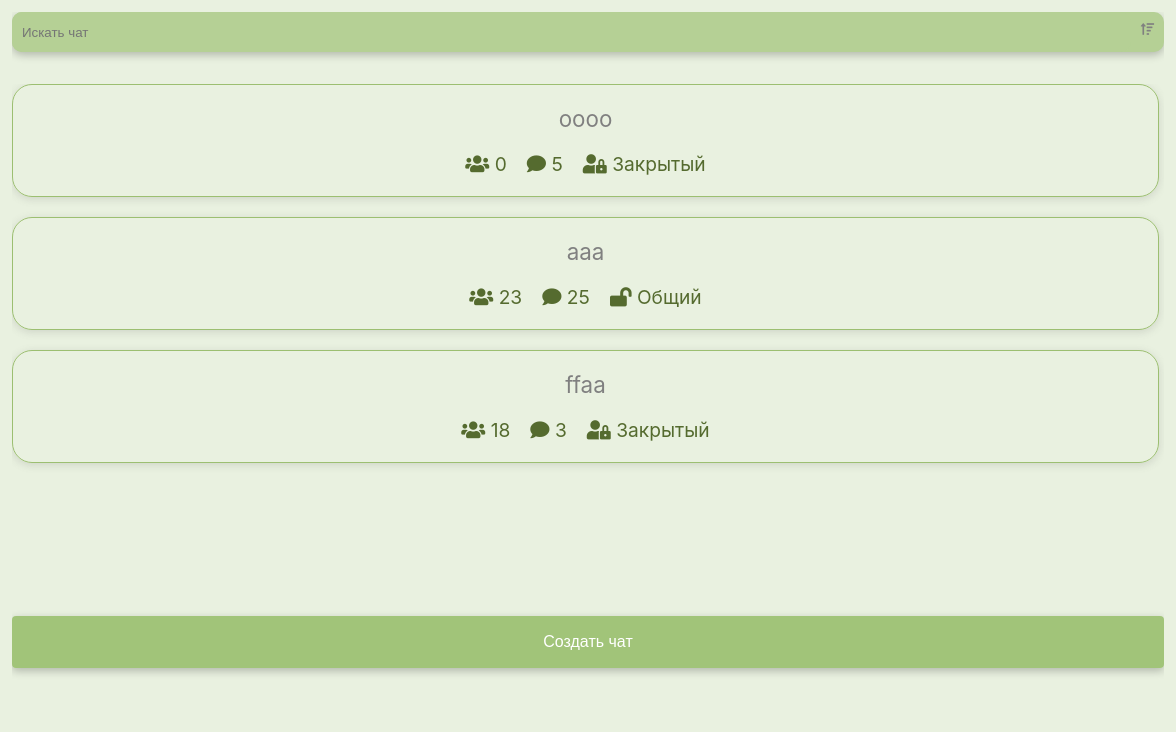
Test: HomeContainer › searches chat rooms based on input's value
The image size is (1176, 732).
Type "aa" into the field with placeholder "Искать чат".
click(571, 32); type("aa")  # box [12, 12, 1131, 52]
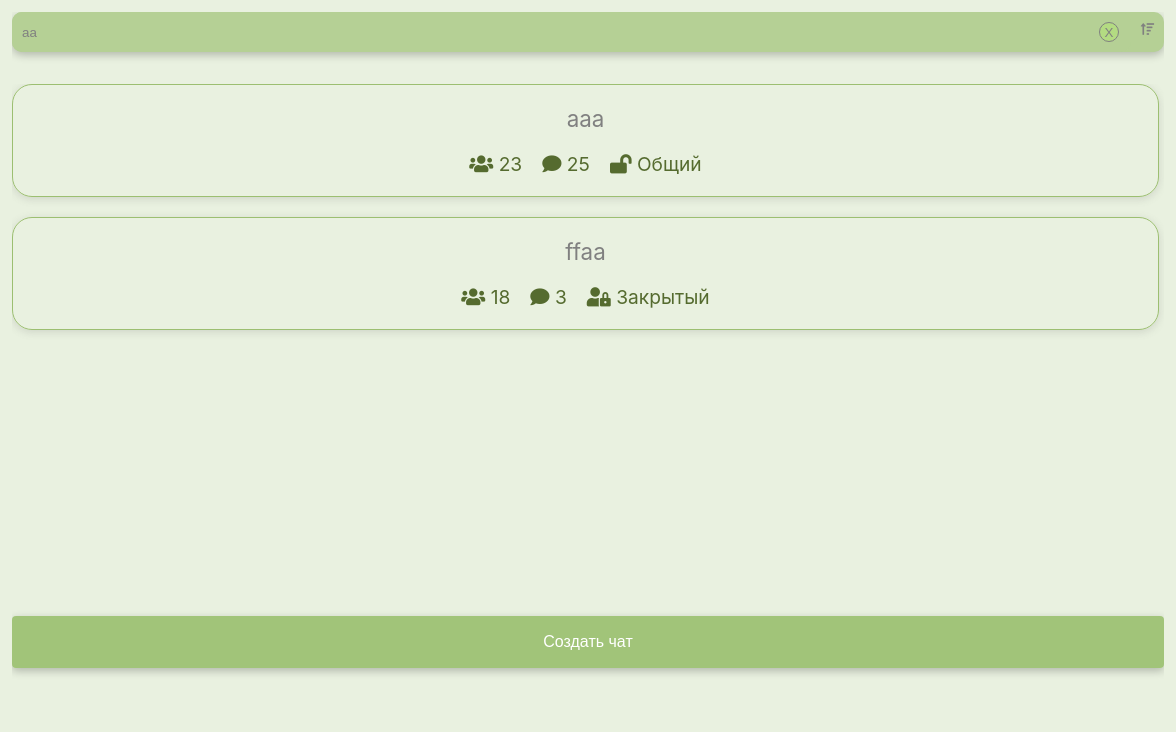
Result: the number of list items is 2 at [12, 84, 1159, 197]; [12, 217, 1159, 330]
Replace the text in the field with "fa" at (571, 32), box [12, 12, 1131, 52]
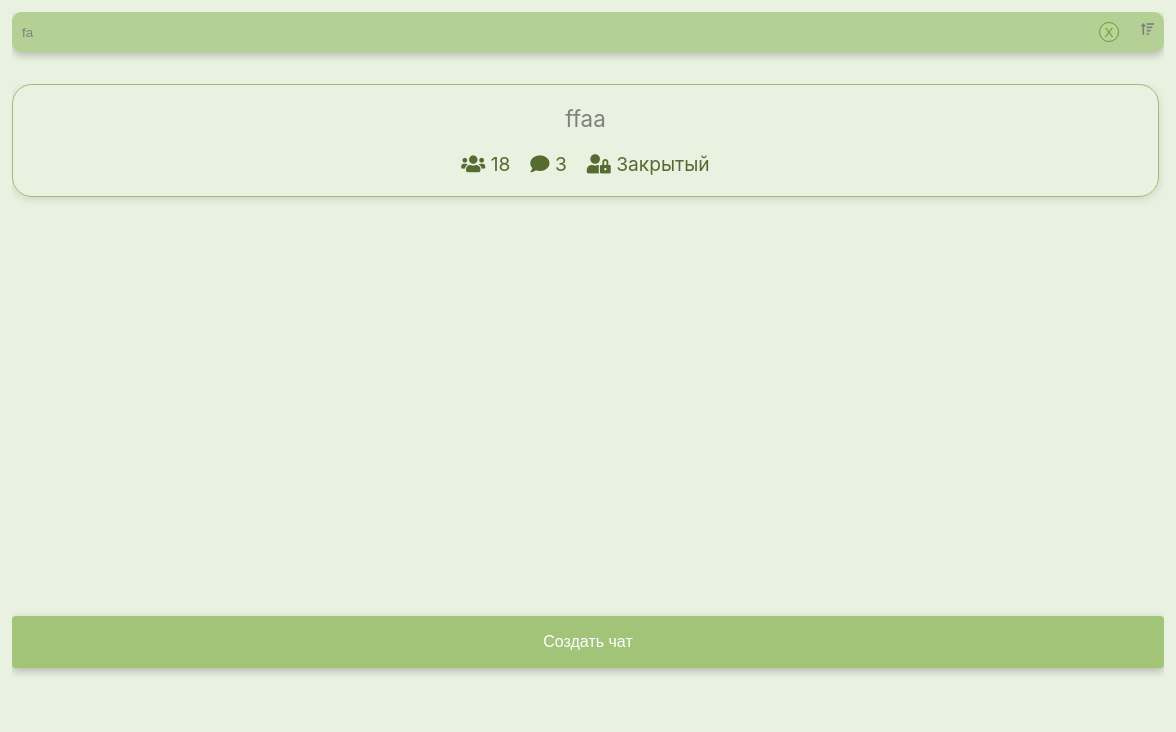
Result: the number of list items is 1 at [12, 84, 1159, 197]
Replace the text in the field with "aa" at (571, 32), box [12, 12, 1131, 52]
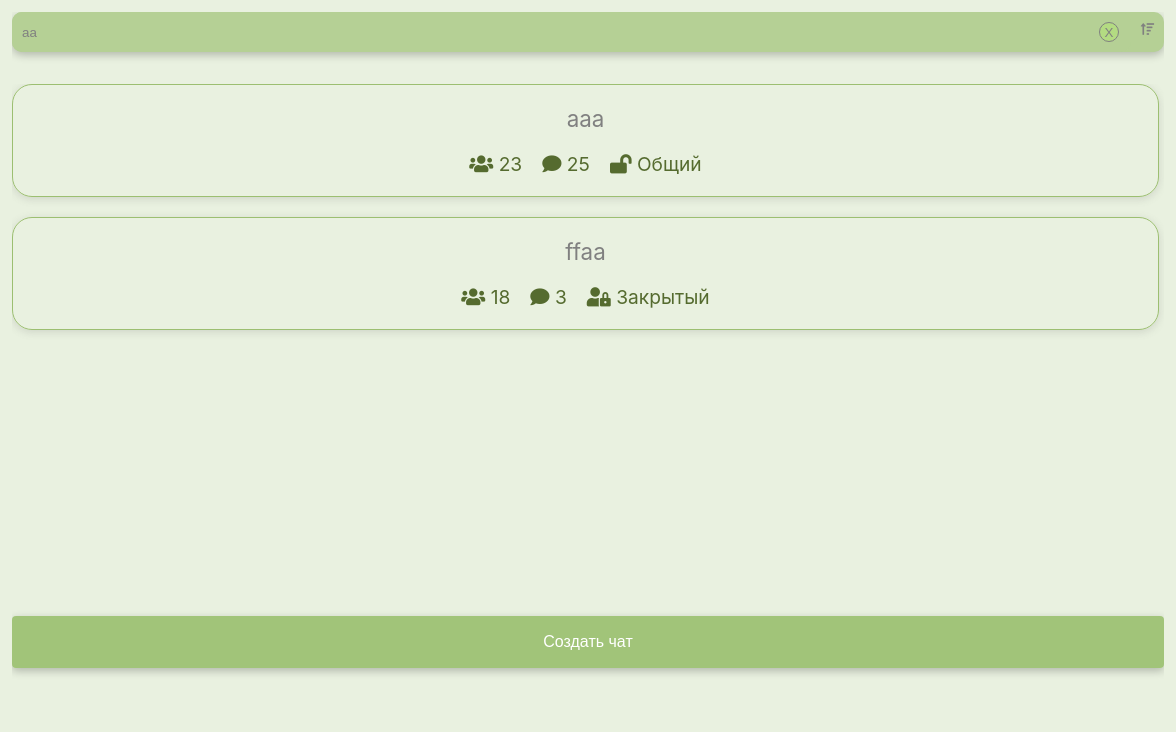
Result: the number of list items is 2 at [12, 84, 1159, 197]; [12, 217, 1159, 330]
Click the button named "Сбросить поиск".
click(1109, 32)  # box [1099, 22, 1119, 42]
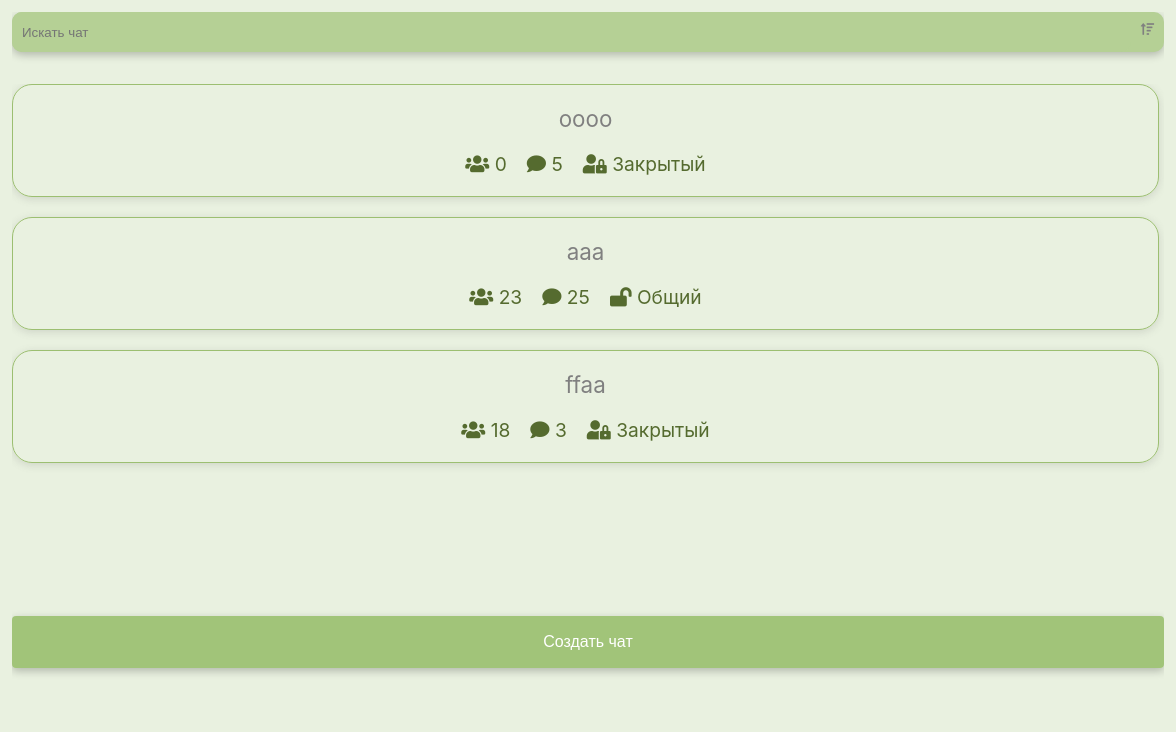
Result: the number of list items is 3 at [12, 84, 1159, 197]; [12, 217, 1159, 330]; [12, 350, 1159, 463]
